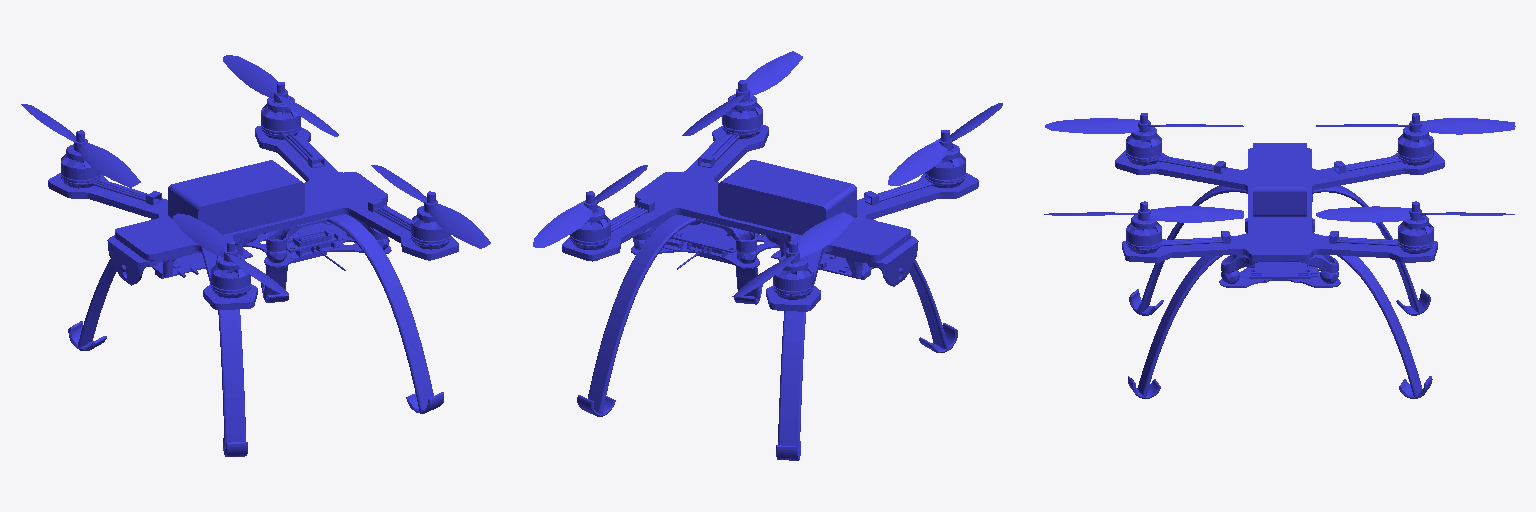
URDF robot description (dragon_ddk):
<?xml version="1.0"?>
<!--
/****************************************************************************
 *   Copyright (c) 2017 [author]. All rights reserved.
 *
 * Redistribution and use in source and binary forms, with or without
 * modification, are permitted provided that the following conditions
 * are met:
 *
 * 1. Redistributions of source code must retain the above copyright
 *    notice, this list of conditions and the following disclaimer.
 * 2. Redistributions in binary form must reproduce the above copyright
 *    notice, this list of conditions and the following disclaimer in
 *    the documentation and/or other materials provided with the
 *    distribution.
 * 3. Neither the name ATLFlight nor the names of its contributors may be
 *    used to endorse or promote products derived from this software
 *    without specific prior written permission.
 *
 * NO EXPRESS OR IMPLIED LICENSES TO ANY PARTY'S PATENT RIGHTS ARE GRANTED BY THIS LICENSE.
 * THIS SOFTWARE IS PROVIDED BY THE COPYRIGHT [author]
 * "AS IS" AND ANY EXPRESS OR IMPLIED WARRANTIES, INCLUDING, BUT NOT
 * LIMITED TO, THE IMPLIED WARRANTIES OF MERCHANTABILITY AND FITNESS
 * FOR A PARTICULAR PURPOSE ARE DISCLAIMED. IN NO EVENT SHALL THE
 * COPYRIGHT [author] LIABLE FOR ANY DIRECT, INDIRECT,
 * INCIDENTAL, SPECIAL, EXEMPLARY, OR CONSEQUENTIAL DAMAGES (INCLUDING,
 * BUT NOT LIMITED TO, PROCUREMENT OF SUBSTITUTE GOODS OR SERVICES; LOSS
 * OF USE, DATA, OR PROFITS; OR BUSINESS INTERRUPTION) HOWEVER CAUSED
 * AND ON ANY THEORY OF LIABILITY, WHETHER IN CONTRACT, STRICT
 * LIABILITY, OR TORT (INCLUDING NEGLIGENCE OR OTHERWISE) ARISING IN
 * ANY WAY OUT OF THE USE OF THIS SOFTWARE, EVEN IF ADVISED OF THE
 * POSSIBILITY OF SUCH DAMAGE.
 * In addition Supplemental Terms apply.  See the SUPPLEMENTAL file. 
 ****************************************************************************/
-->

<robot name="dragon_ddk">
  <link name="base_link">
    <visual>
      <geometry>
        <mesh filename="meshes/dddk.stl.dae"/>
      </geometry>
      <origin rpy="1.57075 0 -1.57075" xyz="0 0 0"/>
      <material name="black">
        <color rgba=".3 .3 .9 1"/>
      </material>
    </visual>
    <collision>
      <geometry>
        <mesh filename="meshes/dddk.stl.dae"/>
      </geometry>
      <origin rpy="1.57075 0 -1.57075" xyz="0 0 0"/>
      <material name="black">
        <color rgba=".3 .3 .9 1"/>
      </material>
    </collision>
  </link>

  <joint name="base_to_imu" type="fixed">
    <parent link="base_link"/>
    <child link="imu"/>
    <origin xyz="0.06631 0.01616 -0.0165" rpy="3.14159 0 0"/>
  </joint>

  <link name="imu">
  </link>


  <joint name="base_link_to_dfc" type="fixed">
    <parent link="base_link"/>
    <child link="dfc"/>
    <origin xyz=".06631 0.0 -0.02388" rpy="3.14159 0.0 -1.571"/>
  </joint>

  <link name="dfc">
  </link>


  <joint name="base_to_hires" type="fixed">
    <parent link="base_link"/>
    <child link="hires"/>
    <origin xyz="0.07783 0.0 -0.01101" rpy="-1.571 0.0 -1.571"/>
  </joint>

  <link name="hires">
  </link>
</robot>

--- Facts derived from the render (not from the file) ---
The picture shows the robot from 3 angles, left to right: view 1: azimuth 30°, elevation 25°; view 2: azimuth 150°, elevation 25°; view 3: azimuth 270°, elevation 25°; orthographic projection.
Model dragon_ddk with 4 links and 3 joints (3 fixed), rooted at base_link, posed all joints at 0.
Links seen in each view (by area): view 1: base_link; view 2: base_link; view 3: base_link.
Boxes of the visible links, <box> form: base_link: <box>21,55,490,456</box>; base_link: <box>533,51,1002,460</box>; base_link: <box>1044,113,1515,398</box>.
Bounding box of the posed robot: 0.1699 × 0.2999 × 0.1372 m (x, y, z).
Meshes: 1 distinct files referenced, 1 mesh visuals loaded (1 Collada DAE).
